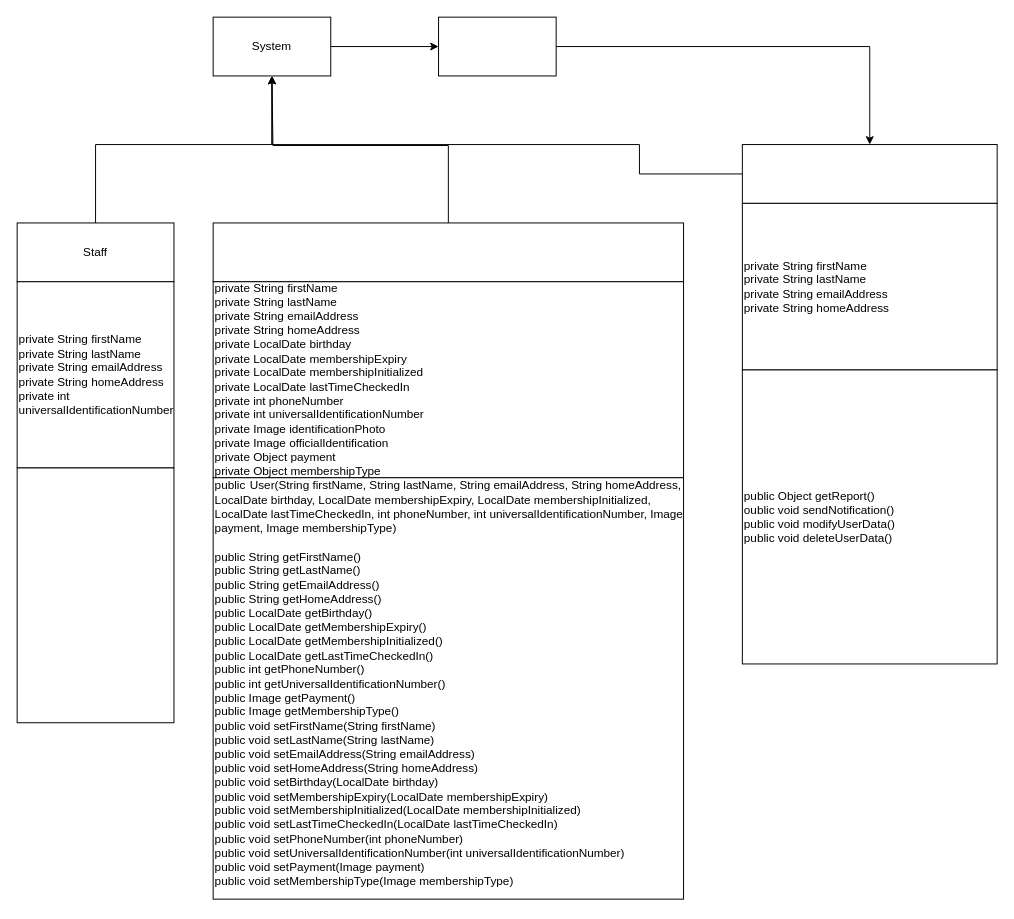
The diagram is 1014 pixels wide and 919 high, and some of its shapes have lost their labels. The shapes that lost their labels are listed below. From the top down, each one's centre as x and y in pixels, then its label:
pixel 497 46: Database
pixel 869 173: Manager
pixel 448 252: User
pixel 95 595: public void modifyUser()
